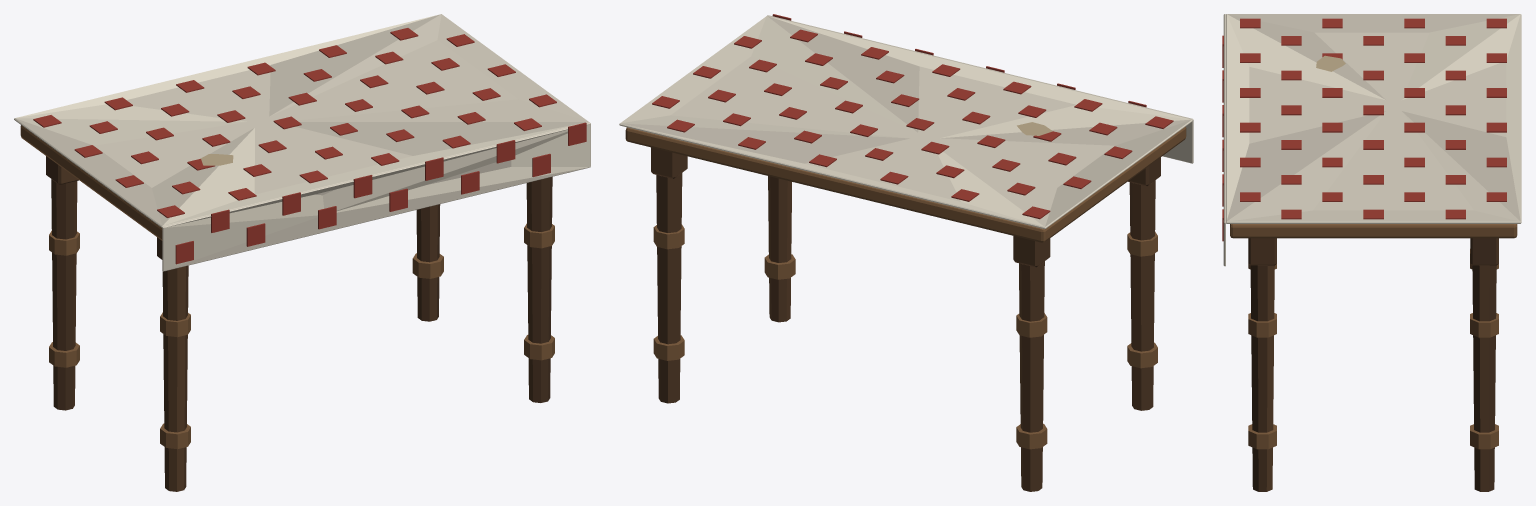
The model's file is table_wood_kuhonnyy_stol_idle.glb.
3 renders of one model, left to right at view 1: azimuth 30°, elevation 25°; view 2: azimuth 150°, elevation 25°; view 3: azimuth 270°, elevation 25°, orthographic.
Visible parts, largest first — view 1: table_wood_kuhonnyy_stol_idle; view 2: table_wood_kuhonnyy_stol_idle; view 3: table_wood_kuhonnyy_stol_idle.
Part boxes in pixels (x1=…): table_wood_kuhonnyy_stol_idle: x1=14, y1=14, x2=590, y2=491; table_wood_kuhonnyy_stol_idle: x1=619, y1=14, x2=1193, y2=491; table_wood_kuhonnyy_stol_idle: x1=1222, y1=14, x2=1521, y2=491.
Size of the model in its own units: 1.2 by 0.762 by 0.728.
1 material, 1 textured.
